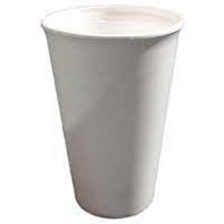paper_cup: (33, 0, 190, 224)
